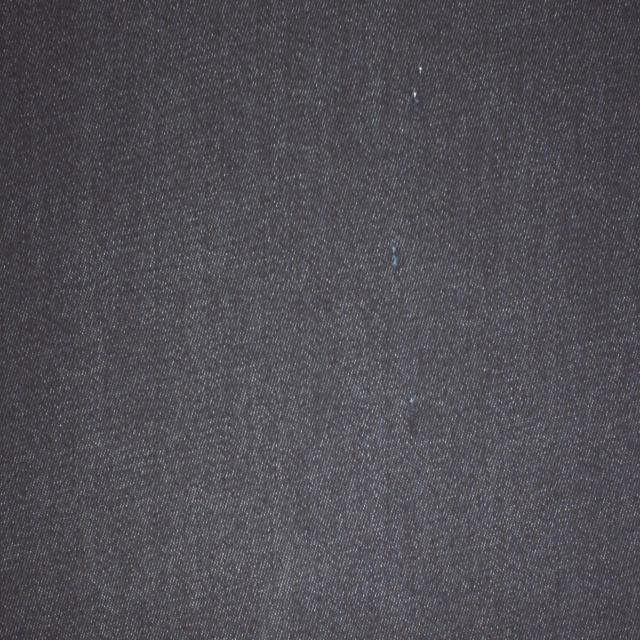Knot: (390, 240, 401, 274), (411, 87, 421, 106), (419, 62, 423, 74)
